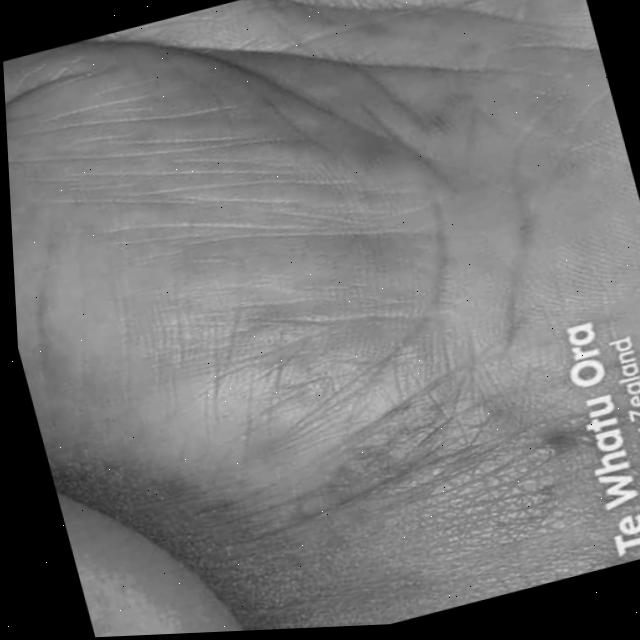Eczema: (145, 61, 599, 571)
